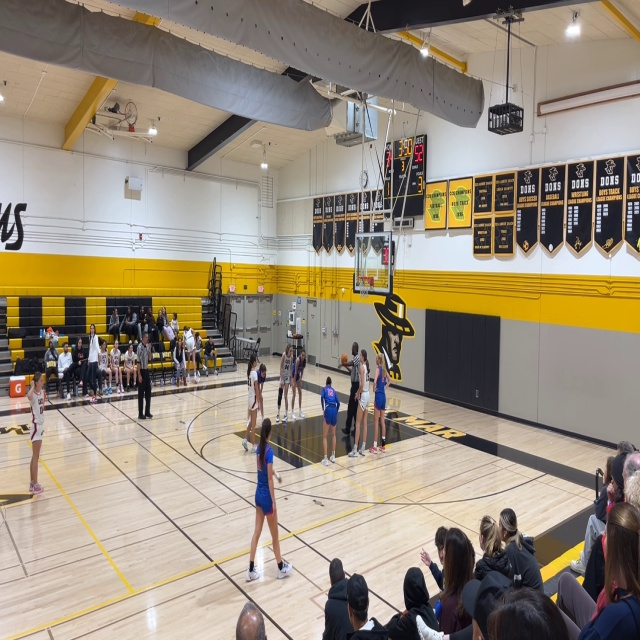Basketball: (340, 353, 348, 365)
